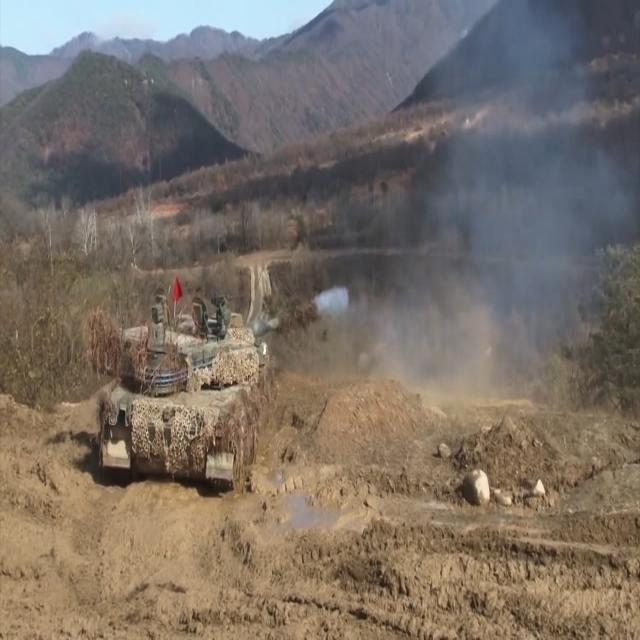korea tank: (86, 288, 324, 500)
